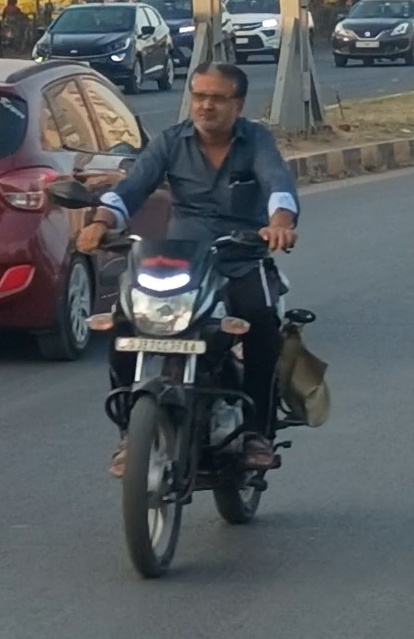BikeWithRider: (38, 55, 339, 586)
NoHelmet: (178, 56, 258, 141)
